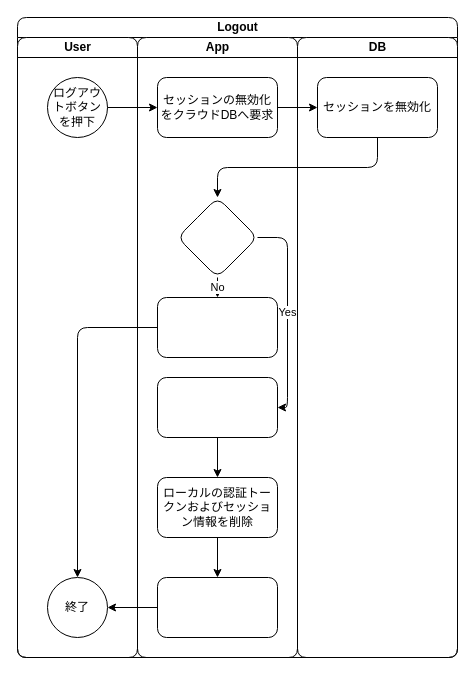
This 475x675 diagram has some shape labels left out. Here are the shapes that lost their labels. From the top down, the centre of each, then its label:
At (217,237): "通信に成功した？".
At (217,327): "エラーメッセージを表示".
At (217,407): "キャッシュを削除".
At (217,607): "ログイン画面へ遷移".
